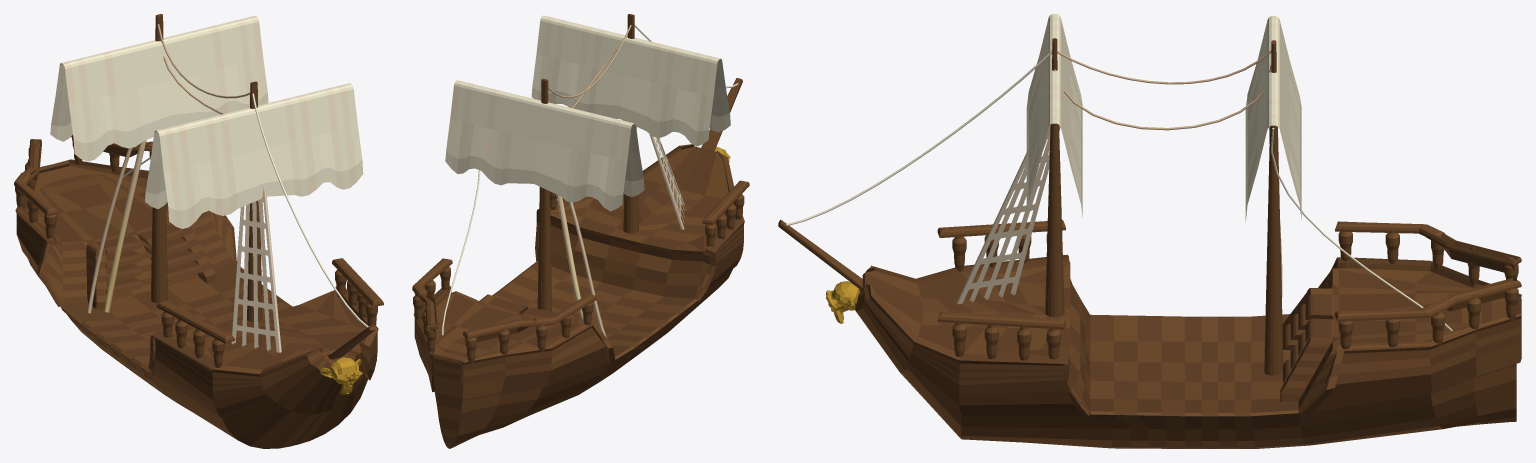
Rendered from Barco.glb.
The picture shows the model from 3 angles, left to right: view 1: azimuth 30°, elevation 25°; view 2: azimuth 150°, elevation 25°; view 3: azimuth 270°, elevation 25°; orthographic projection. The views are drawn at different scales.
Parts seen in each view (by area): view 1: Cylinder; view 2: Cylinder; view 3: Cylinder.
Boxes of the visible parts, bbox=[...] form: Cylinder: bbox=[14, 14, 383, 448]; Cylinder: bbox=[412, 14, 749, 448]; Cylinder: bbox=[778, 14, 1521, 448].
Bounding box in the file's own units: 2.26 × 3.76 × 6.4.
1 material, 1 textured.
